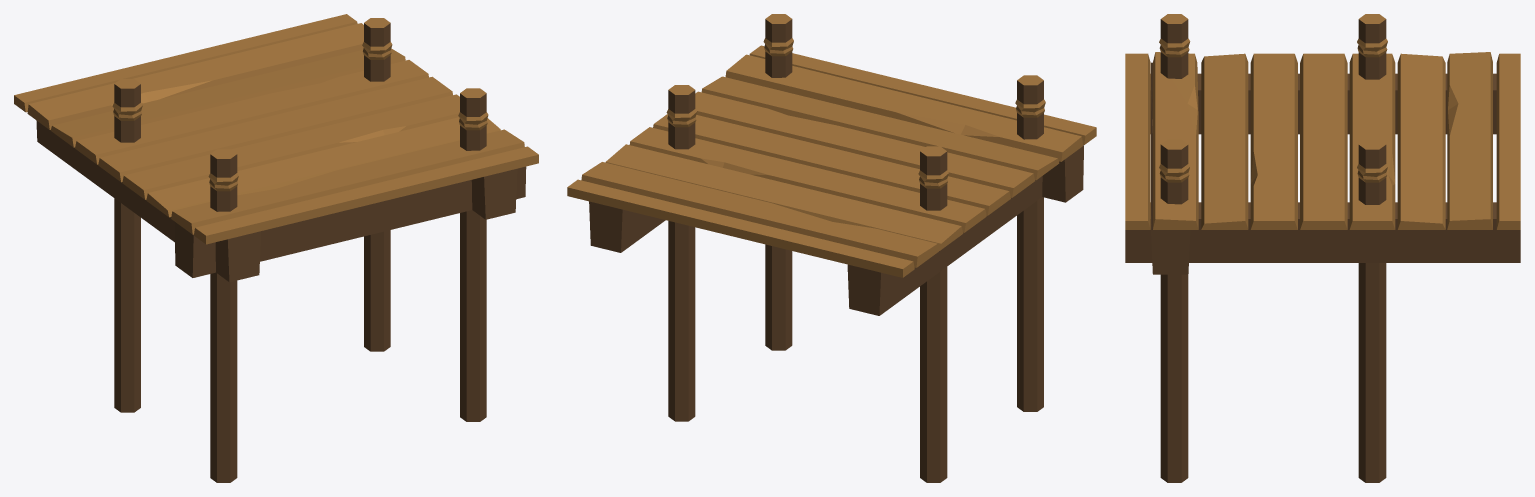
File: pier-tile-straight.fbx
3 views of the same model, side by side, from view 1: azimuth 30°, elevation 25°; view 2: azimuth 150°, elevation 25°; view 3: azimuth 270°, elevation 25° (orthographic). The views are drawn at different scales.
Parts seen in each view (by area): view 1: pier-tile-straight; view 2: pier-tile-straight; view 3: pier-tile-straight.
Part boxes in pixels (bbox=[...]): pier-tile-straight: bbox=[14, 14, 538, 482]; pier-tile-straight: bbox=[567, 14, 1096, 482]; pier-tile-straight: bbox=[1125, 14, 1520, 482].
Bounding box in the file's own units: 4 × 3.72 × 4.
